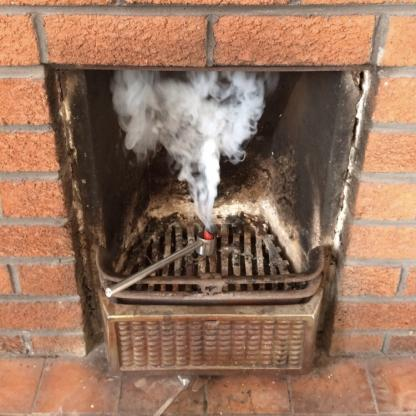smoke: (112, 74, 278, 233)
